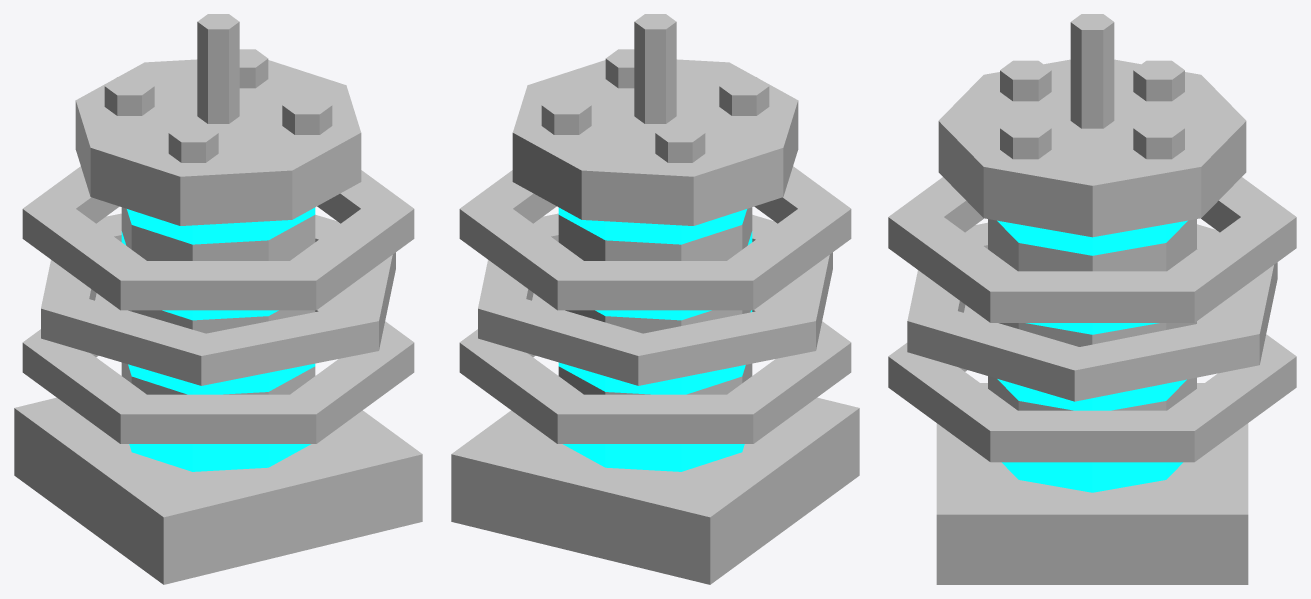
File: Hew4.fbx
3 views of the same model, side by side, from view 1: azimuth 30°, elevation 25°; view 2: azimuth 150°, elevation 25°; view 3: azimuth 270°, elevation 25° (orthographic). The views are drawn at different scales.
Visible parts, largest first — view 1: Cube.003, Cylinder.002, Cylinder, Cylinder.001; view 2: Cube.003, Cylinder.002, Cylinder, Cylinder.001; view 3: Cube.003, Cylinder.002, Cylinder, Cylinder.001.
Part boxes in pixels (left/top/right/bottom): Cube.003: left=14, top=59, right=422, bottom=584; Cylinder.002: left=22, top=166, right=414, bottom=443; Cylinder: left=104, top=49, right=332, bottom=162; Cylinder.001: left=197, top=14, right=239, bottom=123; Cube.003: left=451, top=59, right=859, bottom=584; Cylinder.002: left=459, top=166, right=851, bottom=443; Cylinder: left=541, top=49, right=769, bottom=162; Cylinder.001: left=634, top=14, right=676, bottom=123; Cube.003: left=936, top=59, right=1248, bottom=584; Cylinder.002: left=888, top=177, right=1296, bottom=462; Cylinder: left=1000, top=60, right=1184, bottom=159; Cylinder.001: left=1070, top=14, right=1114, bottom=128.
Bounding box in the file's own units: 261 × 352 × 262.
